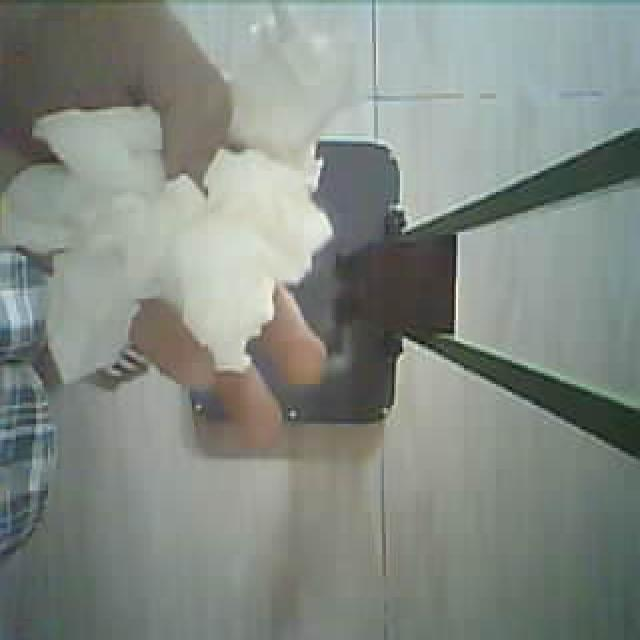Paper: (26, 84, 321, 390)
